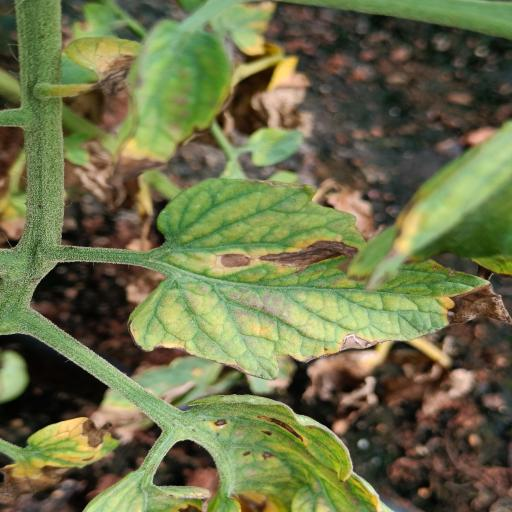disease_tomato: (121, 176, 512, 384)
